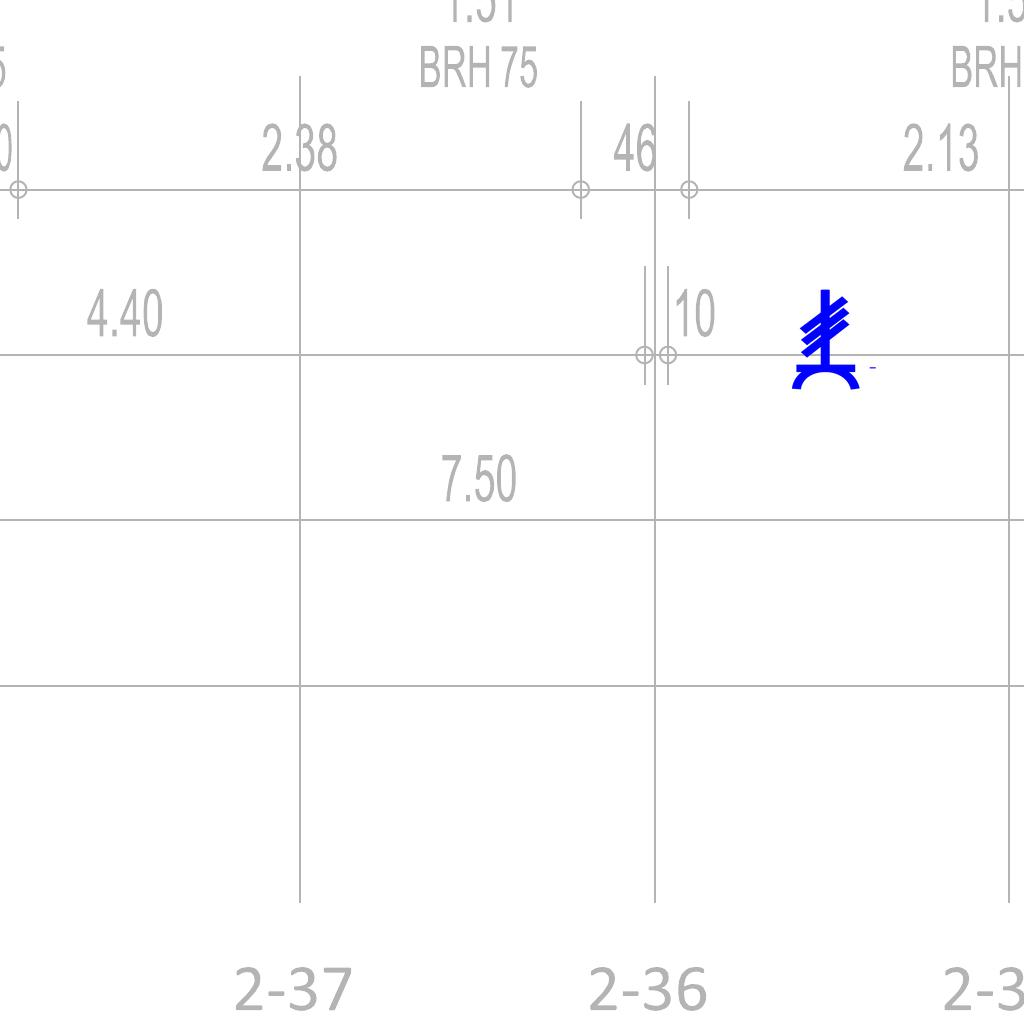CEE_Drehstrom_Steckdose_16_32_A: (789, 288, 879, 392)
